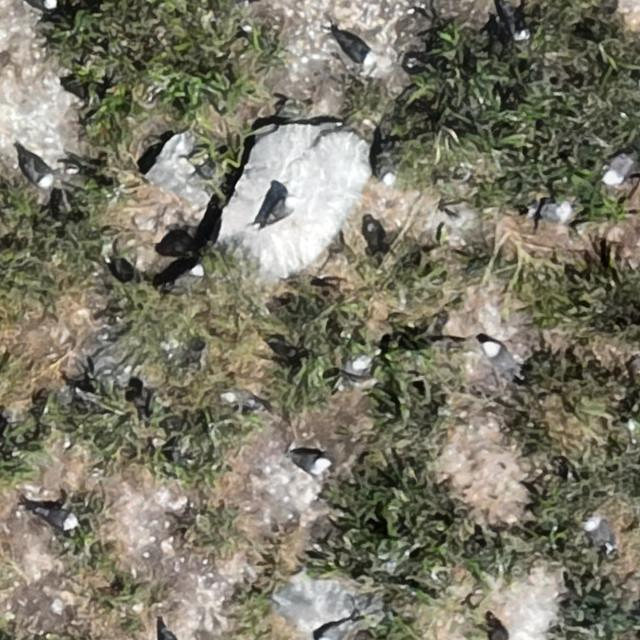umineko: (333, 356, 371, 391), (335, 35, 371, 65), (526, 200, 574, 222), (374, 142, 396, 188), (604, 153, 635, 183), (222, 388, 266, 409), (586, 516, 614, 548), (485, 344, 516, 371), (38, 508, 76, 529), (26, 156, 52, 186), (294, 452, 328, 473), (267, 196, 295, 220), (175, 266, 203, 283), (22, 0, 53, 9), (160, 625, 178, 639)
